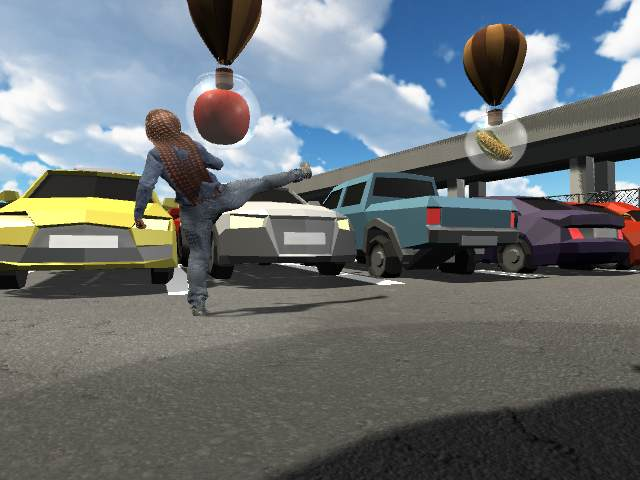turn_right: (129, 107, 315, 320)
